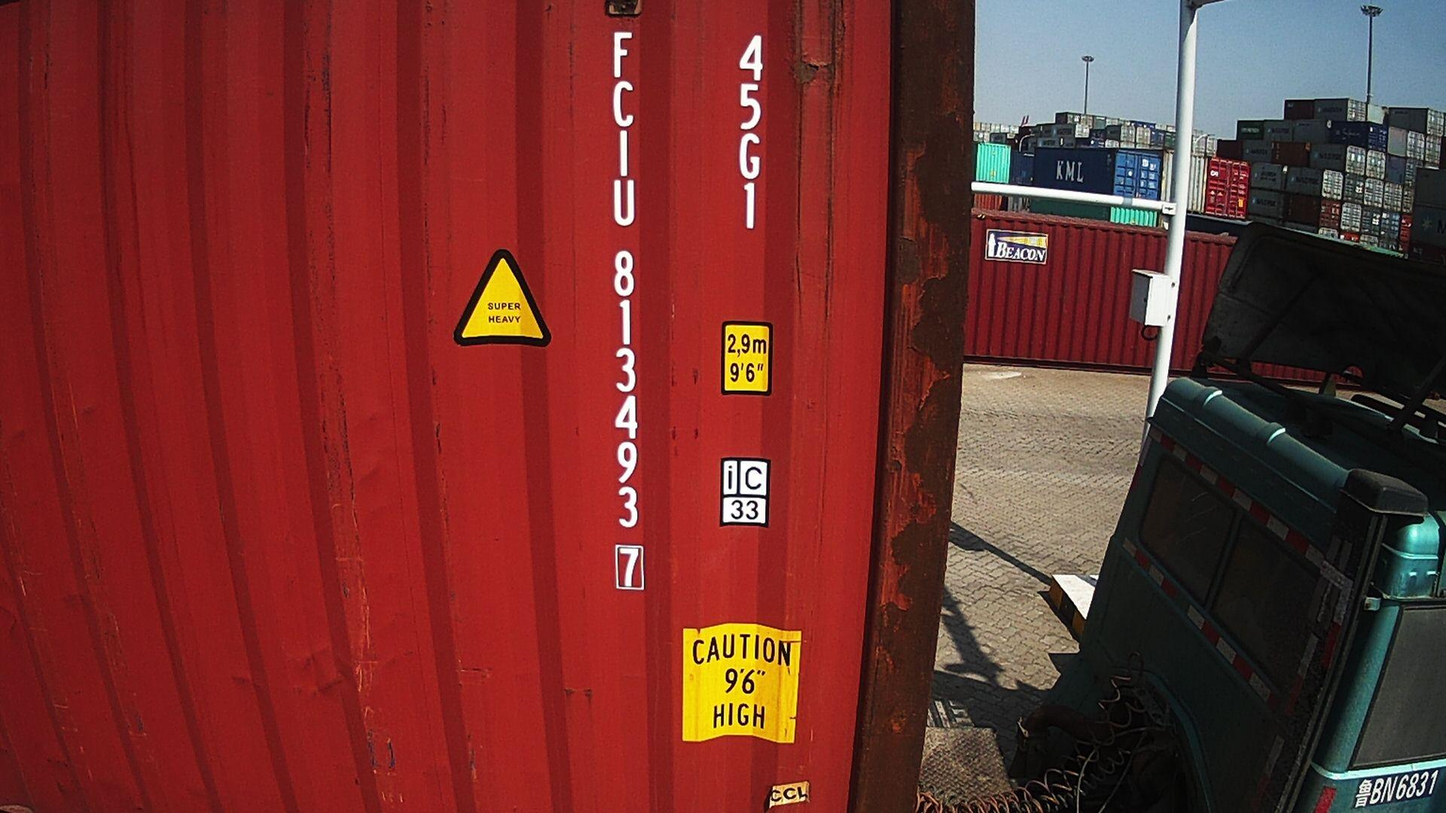container-numbers: (602, 20, 648, 606), (732, 32, 770, 236)
